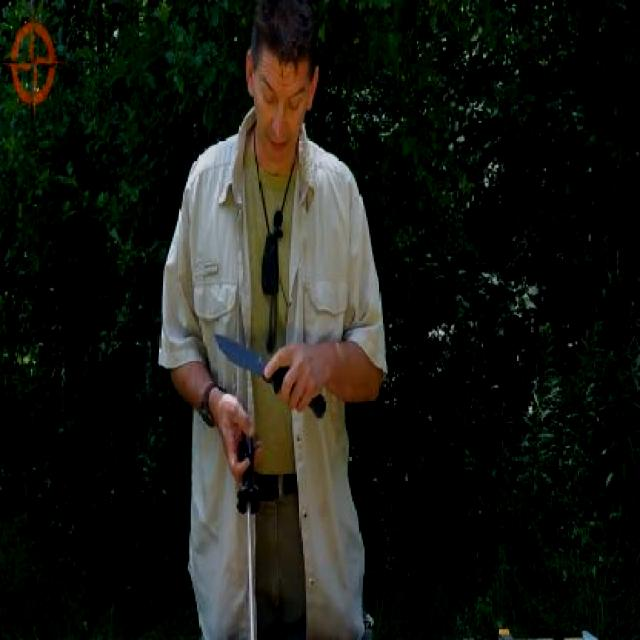knife: (209, 328, 328, 422)
